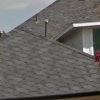Chimney: (39, 15, 54, 43)
